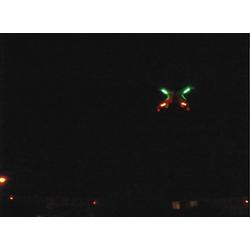drone: (153, 82, 199, 113)
